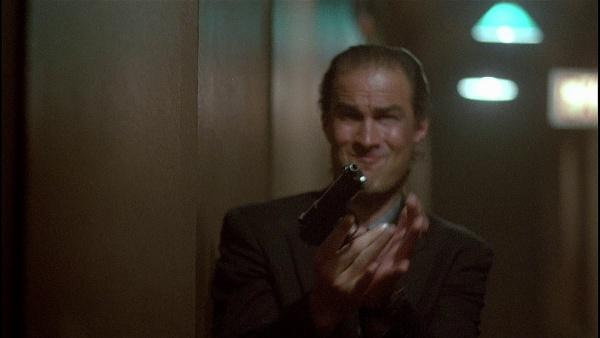Gun: (296, 162, 367, 249)
